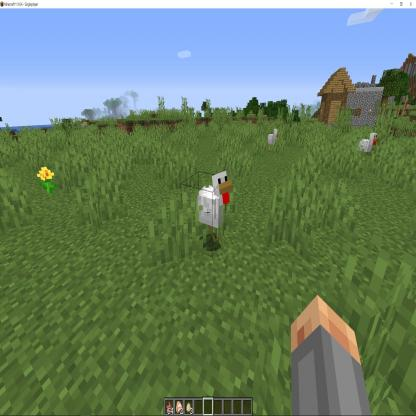minecraft-pigs: (197, 164, 234, 248), (355, 129, 380, 166), (266, 125, 281, 156)
